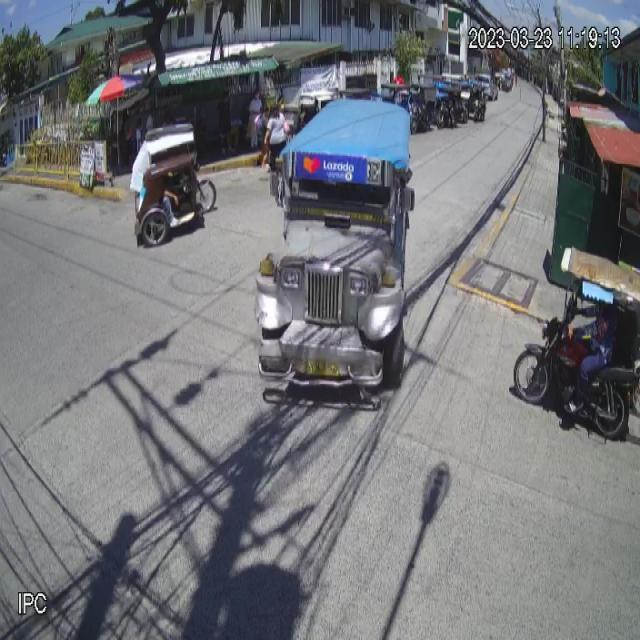Jeep: (256, 95, 416, 399)
Tricycle: (512, 246, 640, 441), (129, 122, 218, 247)
